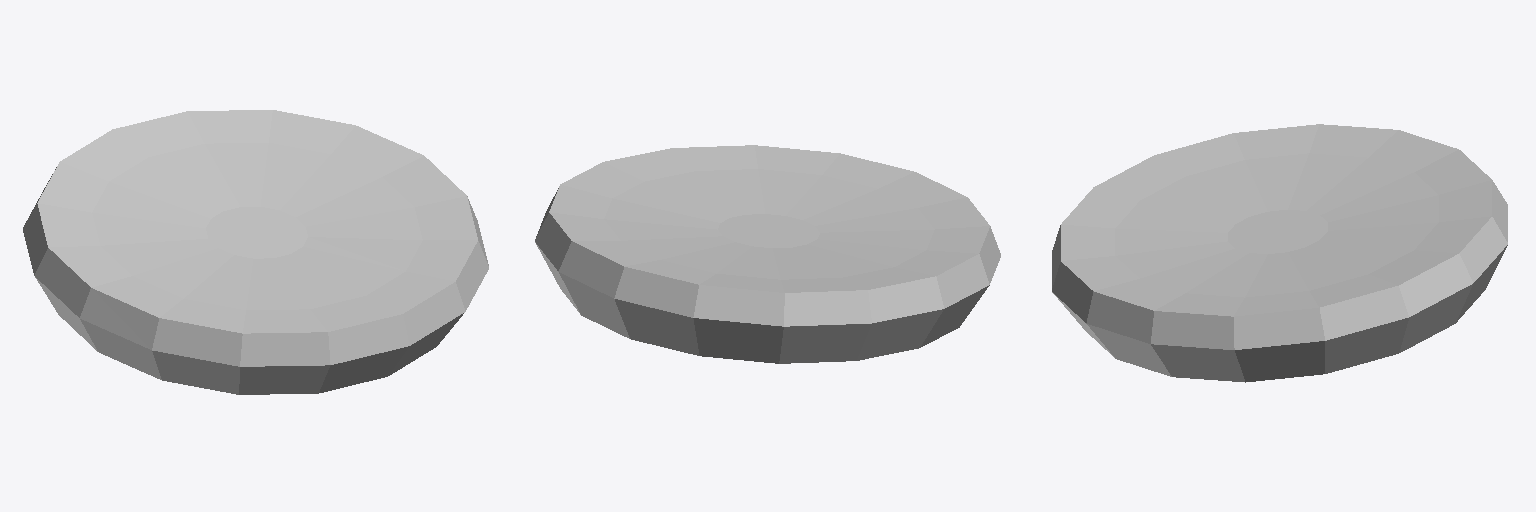
The model's file is trackpad.obj.
3 views of the same model, side by side, from view 1: azimuth 30°, elevation 25°; view 2: azimuth 150°, elevation 25°; view 3: azimuth 270°, elevation 25° (orthographic).
Parts seen in each view (by area): view 1: trackpad1:group1 trackpad1:trackpad trackpad1:polySurface1; view 2: trackpad1:group1 trackpad1:trackpad trackpad1:polySurface1; view 3: trackpad1:group1 trackpad1:trackpad trackpad1:polySurface1.
Part boxes in pixels (left/top/right/bottom): trackpad1:group1 trackpad1:trackpad trackpad1:polySurface1: left=23, top=110, right=488, bottom=394; trackpad1:group1 trackpad1:trackpad trackpad1:polySurface1: left=535, top=145, right=1000, bottom=363; trackpad1:group1 trackpad1:trackpad trackpad1:polySurface1: left=1052, top=124, right=1507, bottom=382.
Bounding box in the file's own units: 0.042 × 0.0117 × 0.0417.